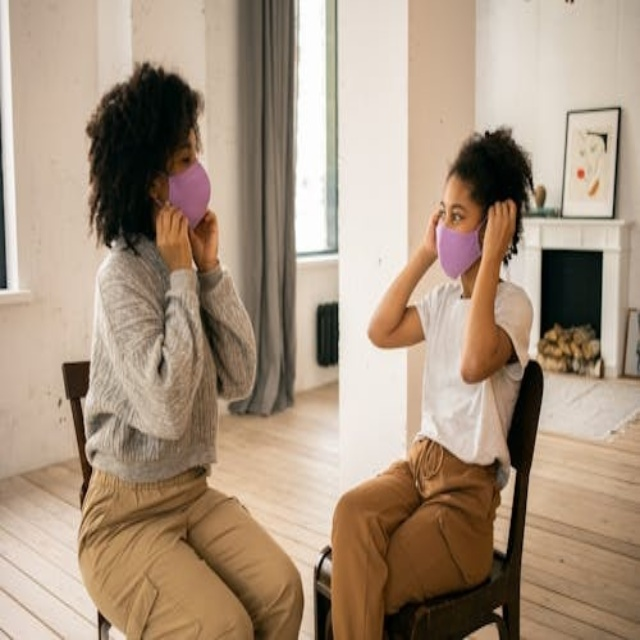Mascara: (159, 162, 211, 229), (436, 215, 486, 279)
Sin_gafas: (436, 190, 475, 233), (169, 133, 205, 173)
Sin_guantes: (483, 192, 525, 269), (152, 198, 193, 263), (193, 202, 223, 265), (420, 204, 442, 259)
